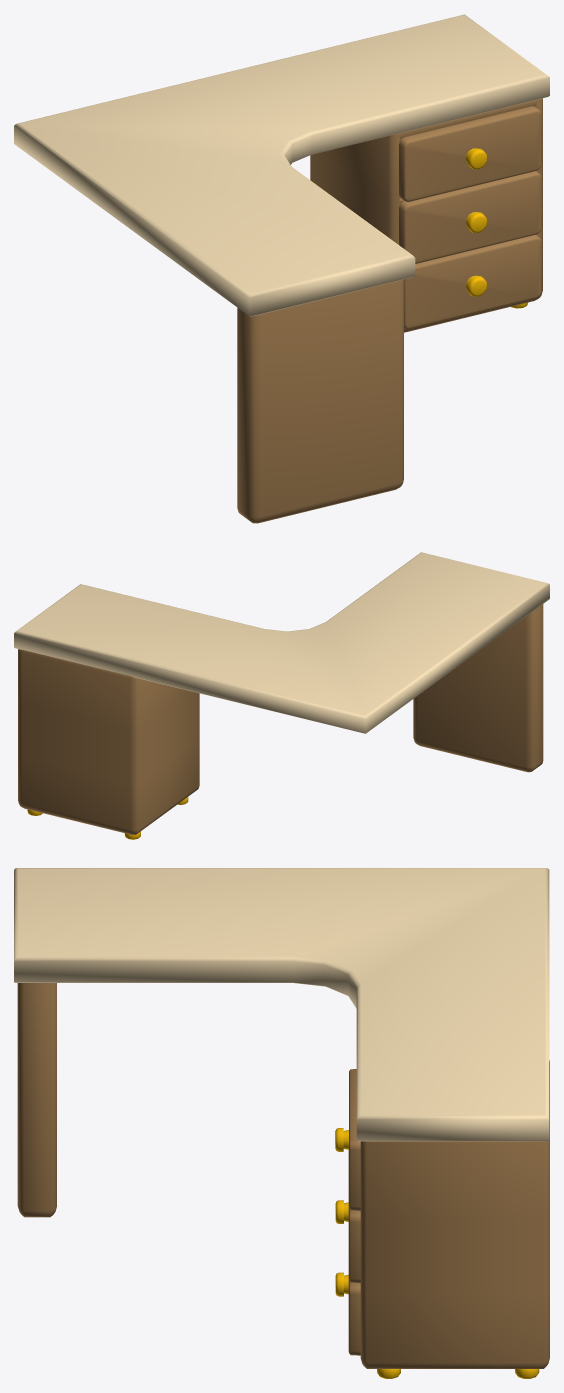
Rendered from Wardrobe_2V.fbx.
3 views of the same model, one above another, from view 1: azimuth 30°, elevation 25°; view 2: azimuth 150°, elevation 25°; view 3: azimuth 270°, elevation 25° (orthographic). The views are drawn at different scales.
Visible parts, largest first — view 1: Wardrobe_2V, Wardrobe_2V Door_1, Wardrobe_2V Door_2, Wardrobe_2V Door_3; view 2: Wardrobe_2V; view 3: Wardrobe_2V, Wardrobe_2V Door_1, Wardrobe_2V Door_2, Wardrobe_2V Door_3.
Boxes of the visible parts, x1=… form: Wardrobe_2V: x1=14, y1=14, x2=549, y2=523; Wardrobe_2V Door_1: x1=399, y1=106, x2=541, y2=201; Wardrobe_2V Door_2: x1=399, y1=171, x2=541, y2=263; Wardrobe_2V Door_3: x1=404, y1=234, x2=541, y2=329; Wardrobe_2V: x1=14, y1=552, x2=549, y2=839; Wardrobe_2V: x1=14, y1=868, x2=549, y2=1378; Wardrobe_2V Door_1: x1=335, y1=1069, x2=360, y2=1210; Wardrobe_2V Door_2: x1=335, y1=1150, x2=360, y2=1283; Wardrobe_2V Door_3: x1=335, y1=1272, x2=360, y2=1355.
Bounding box in the file's own units: 1.37 × 0.6811 × 1.24.
